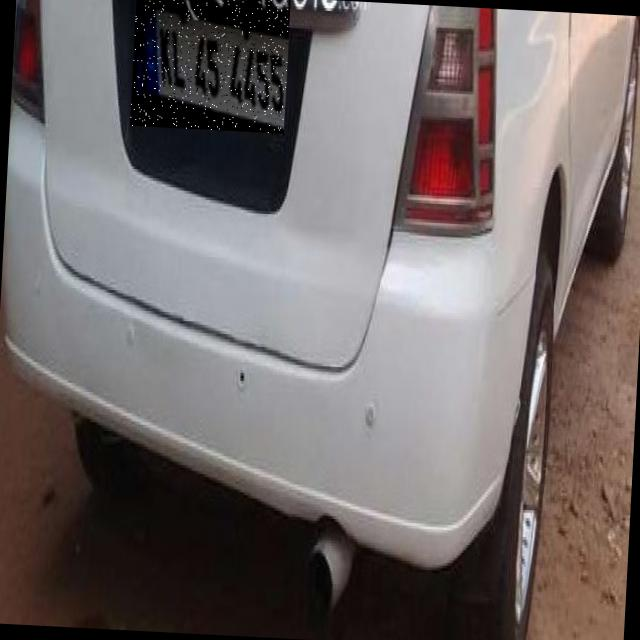Plate: (131, 1, 292, 135)
